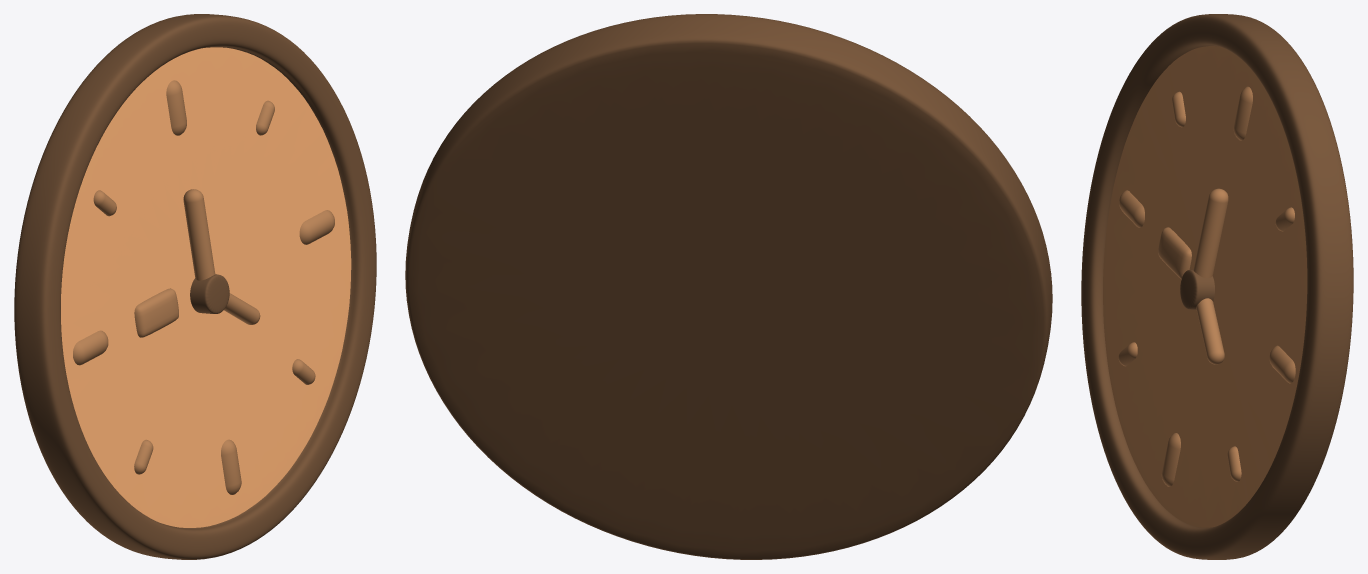
Rendered from Clock.fbx.
3 views of the same model, side by side, from view 1: azimuth 30°, elevation 25°; view 2: azimuth 150°, elevation 25°; view 3: azimuth 270°, elevation 25° (orthographic). The views are drawn at different scales.
Visible parts, largest first — view 1: Cylinder.042, Cylinder.041, Cylinder.052, Cube.155, Cylinder.051, Cylinder.043, Cylinder.045, Cylinder.044, Cylinder.046, Cylinder.053; view 2: Cylinder.041; view 3: Cylinder.042, Cylinder.041, Cylinder.052, Cylinder.053, Cube.155, Cylinder.051, Cylinder.043, Cylinder.045, Cylinder.046, Cylinder.044, Cylinder.049, Cylinder.047.
Part boxes in pixels (x1,y1,x2,y2): Cylinder.042: (61,47,351,527); Cylinder.041: (14,14,376,559); Cylinder.052: (183,189,215,280); Cube.155: (134,288,178,337); Cylinder.051: (190,274,229,313); Cylinder.043: (166,80,186,135); Cylinder.045: (221,439,241,494); Cylinder.044: (73,330,108,365); Cylinder.046: (299,210,334,244); Cylinder.053: (224,293,260,324); Cylinder.041: (405,14,1052,559); Cylinder.042: (1103,46,1307,527); Cylinder.041: (1081,14,1353,559); Cylinder.052: (1193,188,1228,278); Cylinder.053: (1196,298,1224,364); Cube.155: (1158,227,1191,279); Cylinder.051: (1180,269,1214,309); Cylinder.043: (1233,86,1252,140); Cylinder.045: (1161,433,1180,486); Cylinder.046: (1269,345,1295,383); Cylinder.044: (1119,190,1144,227); Cylinder.049: (1227,446,1241,481); Cylinder.047: (1172,91,1185,127).
Bounding box in the file's own units: 525 × 552 × 279.
